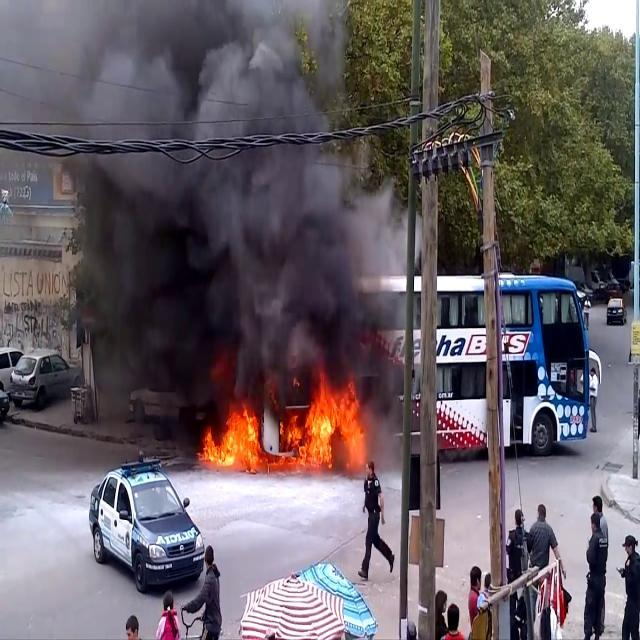Fire: (201, 376, 369, 478)
Smoke: (62, 1, 406, 402)
